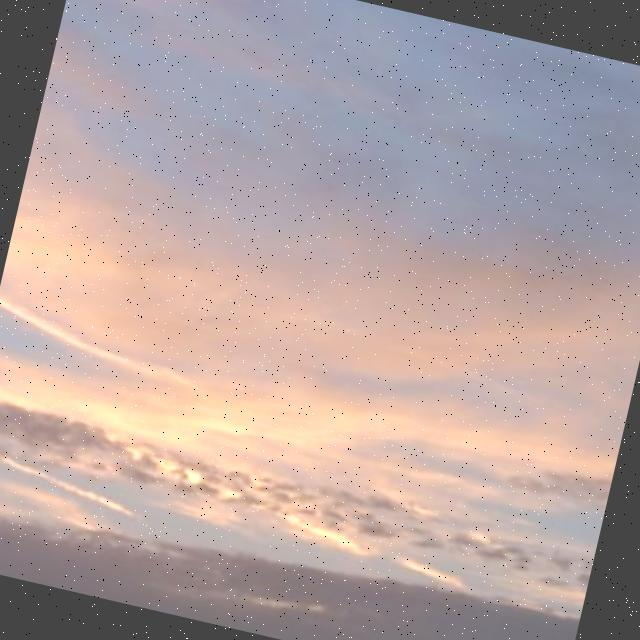Ci: (1, 31, 640, 640)
